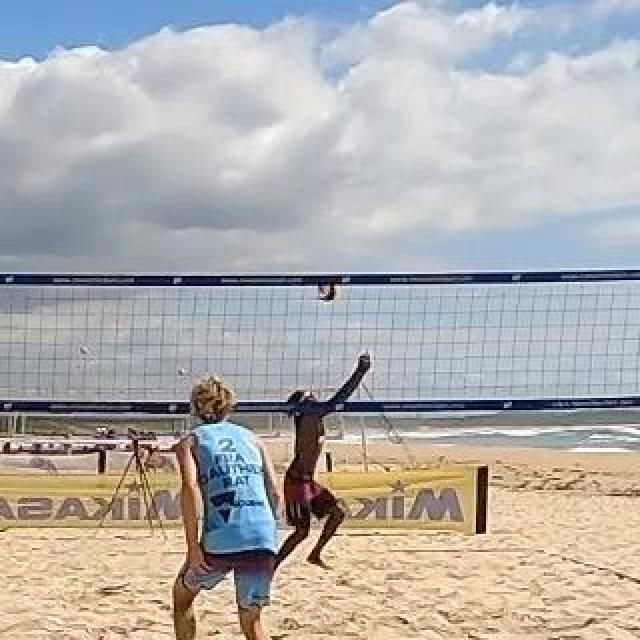volleyball: (319, 284, 339, 302)
